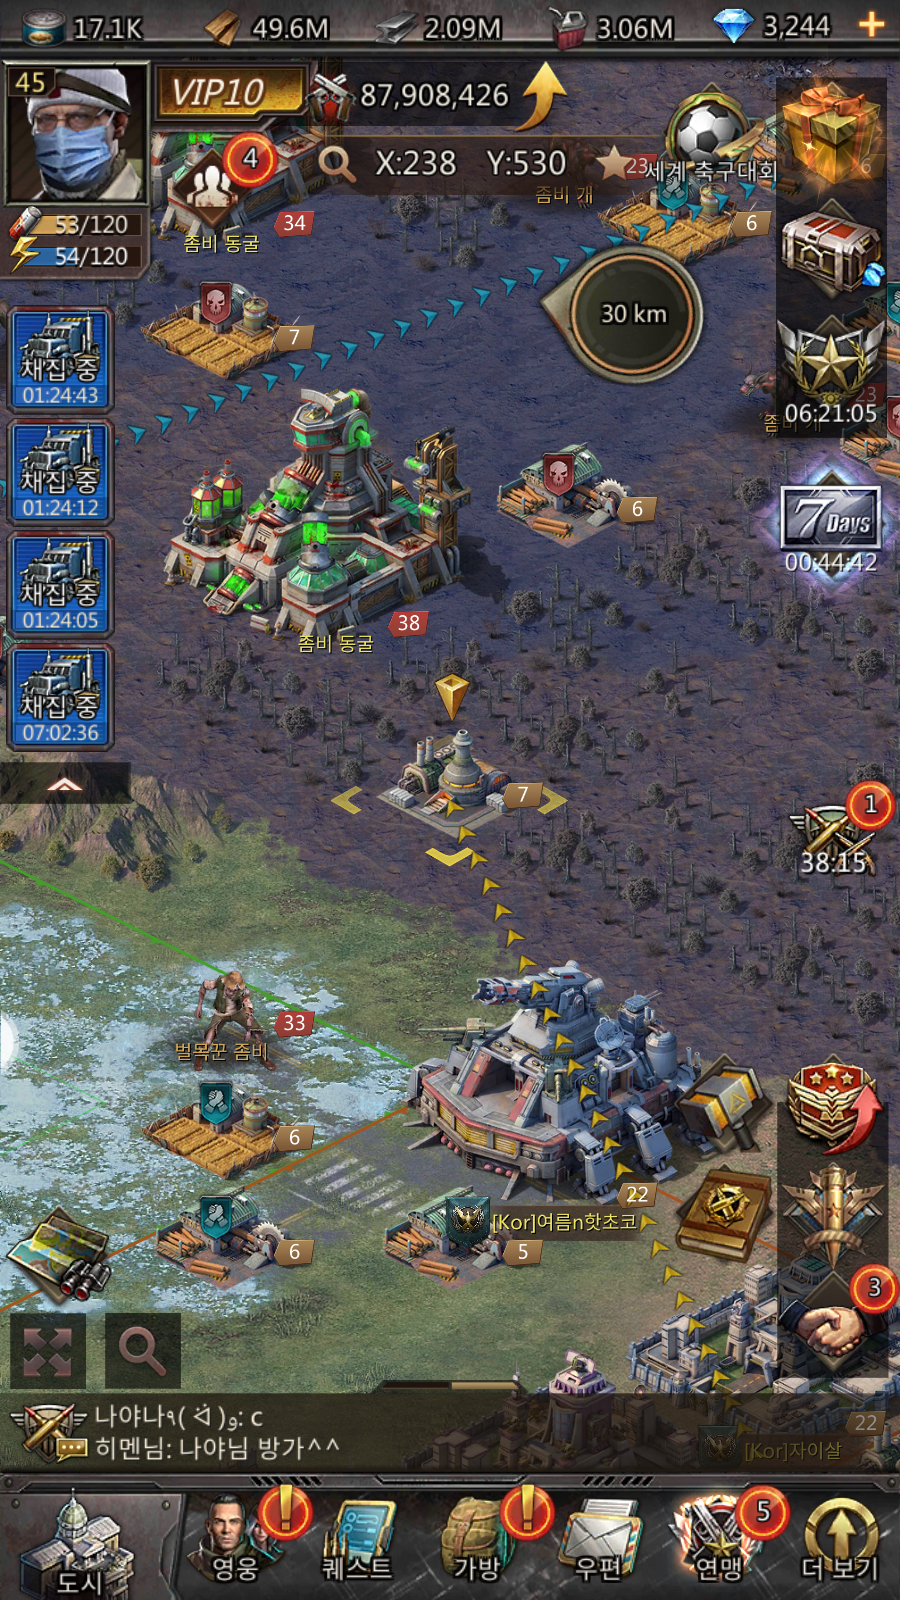city: (16, 1491, 189, 1600)
occupied_steel: (304, 653, 598, 893)
open_panel: (93, 1298, 193, 1396)
troops_cnt_4: (151, 127, 291, 238)
